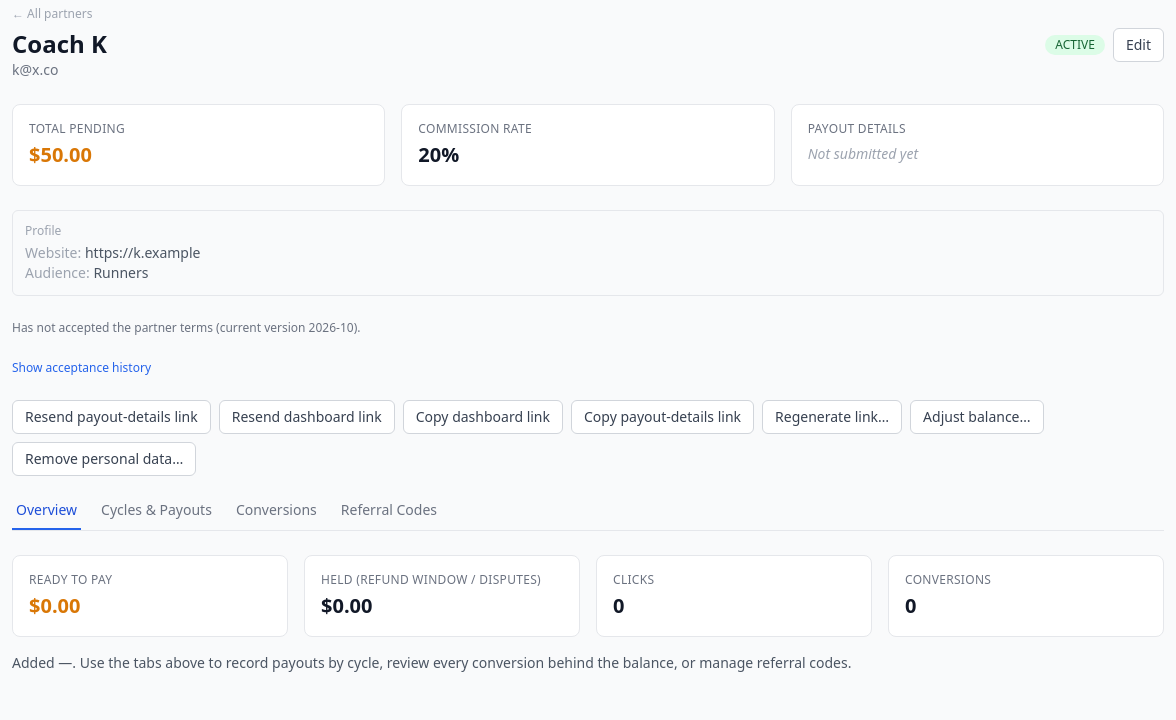
adjust balance › shows adjustments in the ledger with their reason, labelled as an adjustment not a code
Step 1. Click the tab "Conversions" → click(276, 515), box [232,500,321,530]
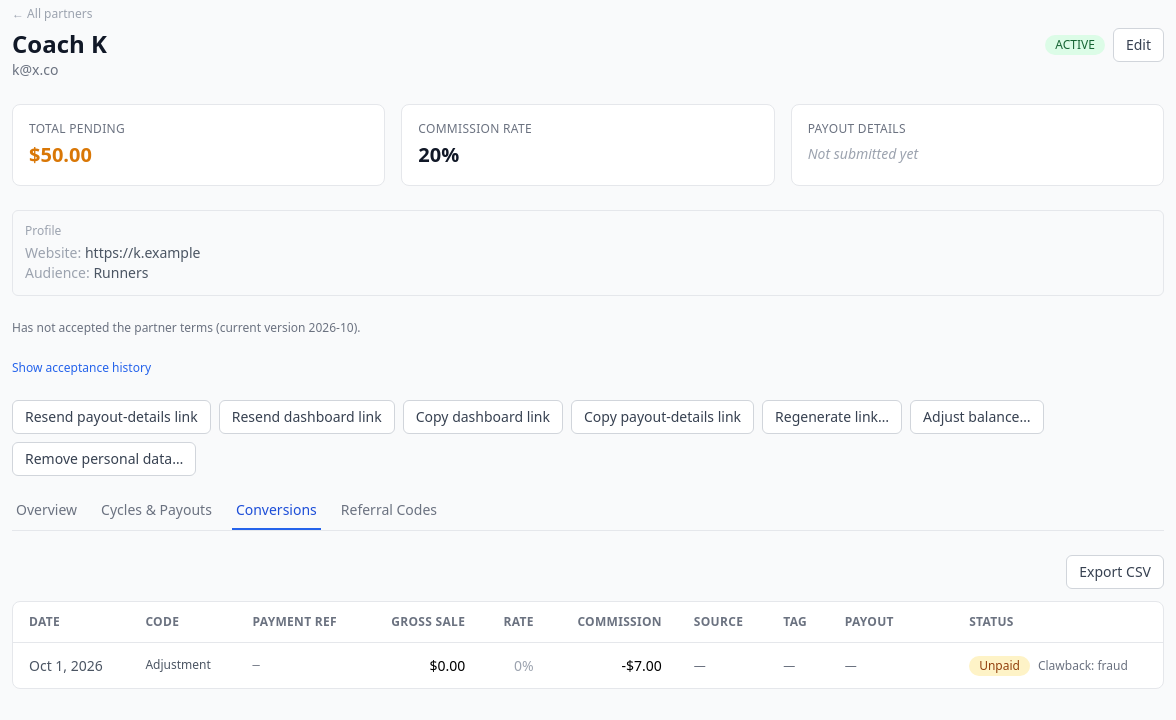
Result: the text "Clawback: fraud" is shown at [1038,657,1128,674]
Result: the text "Adjustment" is shown at [145,656,211,673]
